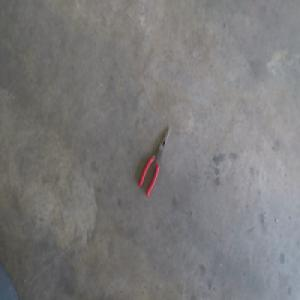Pliers: (138, 131, 170, 202)
